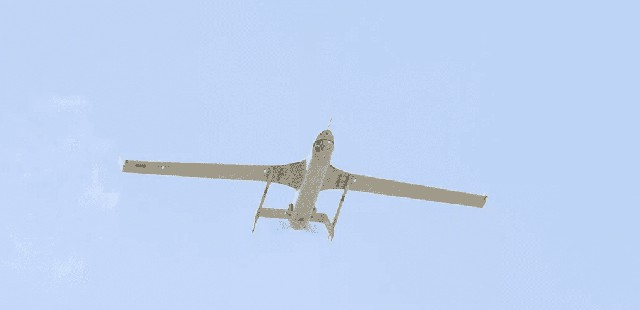maybay_khongnguoilai: (121, 130, 486, 251)
